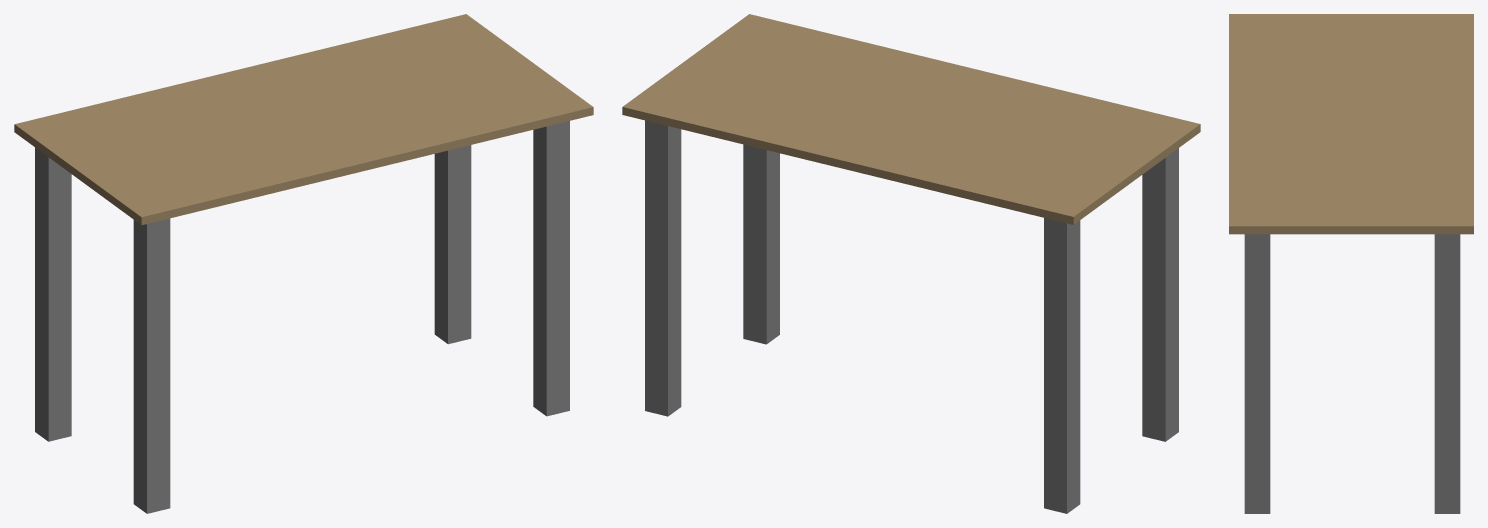
The model's file is stol_6.fbx.
3 views of the same model, side by side, from view 1: azimuth 30°, elevation 25°; view 2: azimuth 150°, elevation 25°; view 3: azimuth 270°, elevation 25° (orthographic). The views are drawn at different scales.
Parts seen in each view (by area): view 1: stol_5.001; view 2: stol_5.001; view 3: stol_5.001.
Boxes of the visible parts, x1,y1,x2,y2 form: stol_5.001: (14, 14, 593, 513); stol_5.001: (622, 14, 1200, 513); stol_5.001: (1229, 14, 1473, 513).
Size of the model in its own units: 160 by 103 by 77.81.
